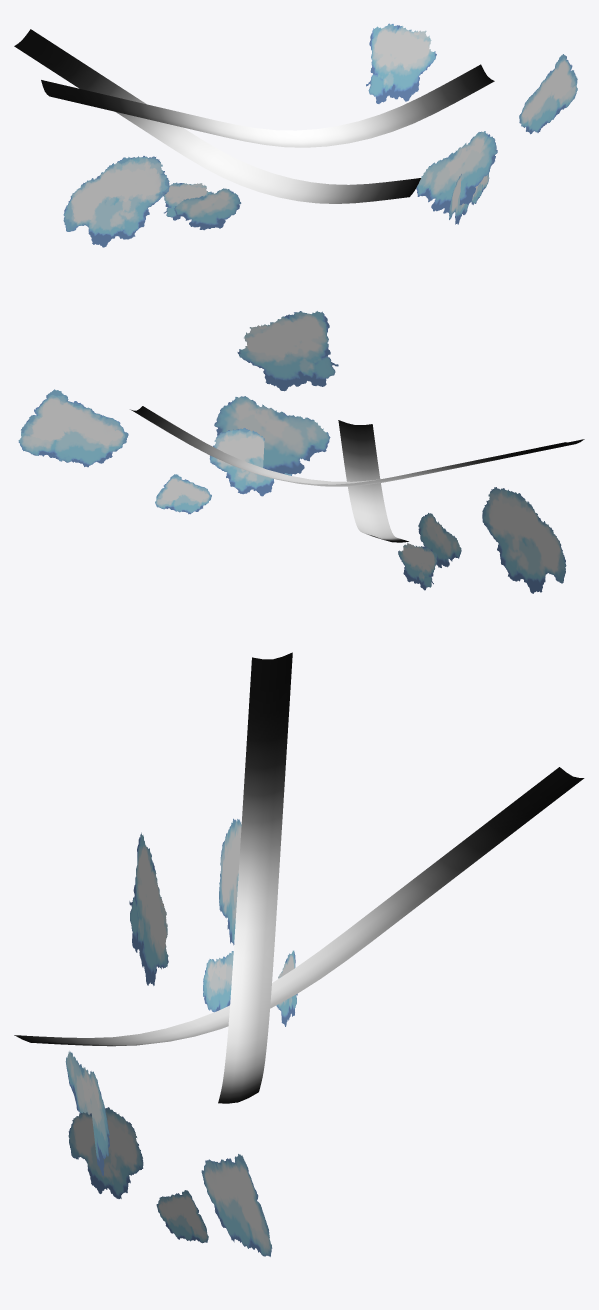
File: StreetClockCloud.fbx
3 views of the same model, one above another, from view 1: azimuth 30°, elevation 25°; view 2: azimuth 150°, elevation 25°; view 3: azimuth 270°, elevation 25° (orthographic). The views are drawn at different scales.
Visible parts, largest first — view 1: SmallClouds, LongTrailCloud; view 2: SmallClouds, LongTrailCloud; view 3: LongTrailCloud, SmallClouds.
Part boxes in pixels (box(x1,y1,x2,y2)): SmallClouds: box(63, 23, 577, 247); LongTrailCloud: box(14, 29, 494, 203); SmallClouds: box(18, 311, 566, 593); LongTrailCloud: box(130, 406, 584, 542); LongTrailCloud: box(14, 652, 584, 1103); SmallClouds: box(65, 818, 297, 1256).
Size of the model in its own units: 10250 by 4241 by 6190.
Materials: 2 (1 with a texture image).
